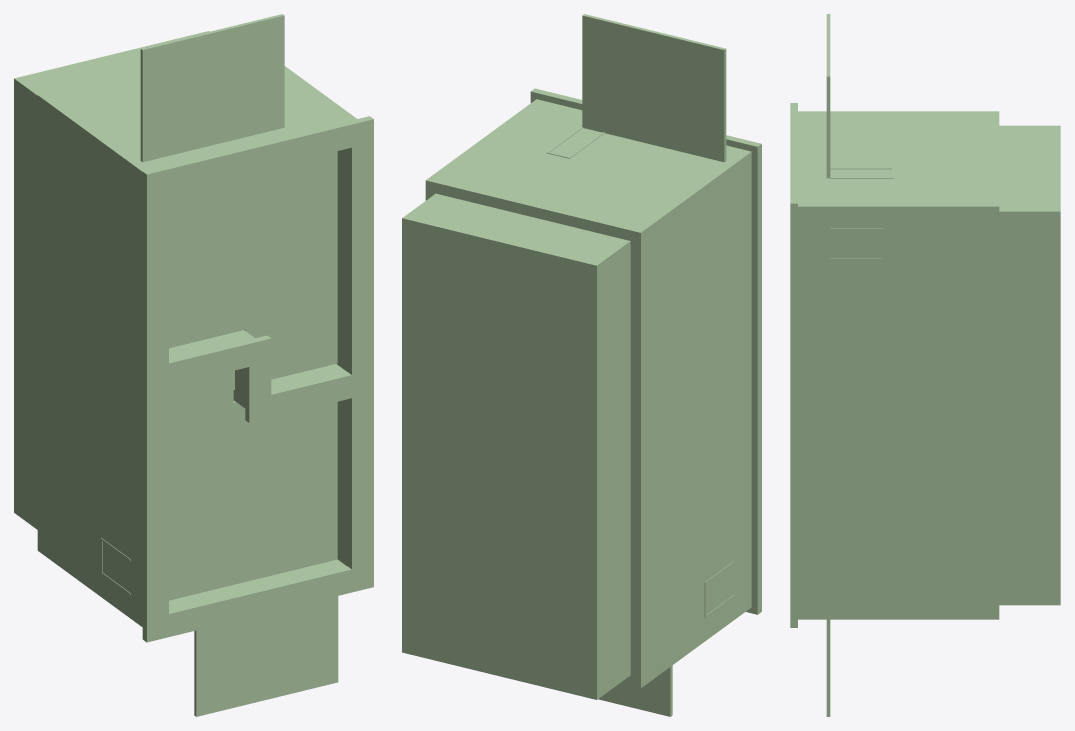
Rendered from duplex.glb.
The picture shows the model from 3 angles, left to right: view 1: azimuth 30°, elevation 25°; view 2: azimuth 150°, elevation 25°; view 3: azimuth 270°, elevation 25°; orthographic projection. The views are drawn at different scales.
Bounding box in the file's own units: 9.28 × 26.57 × 10.55.
